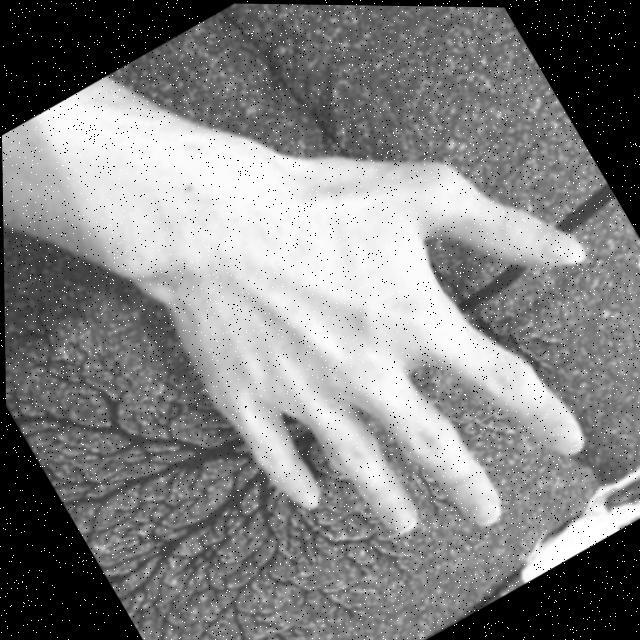no-gloves: (127, 72, 640, 622)
